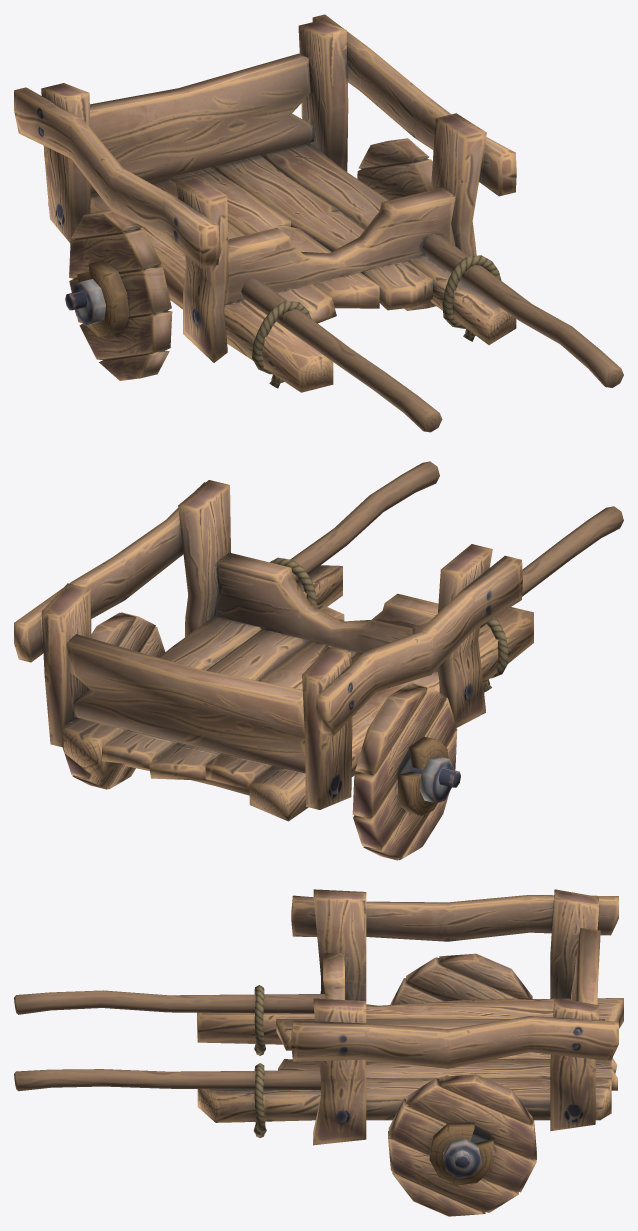
Rendered from Stylized Wagon.fbx.
3 views of the same model, one above another, from view 1: azimuth 30°, elevation 25°; view 2: azimuth 150°, elevation 25°; view 3: azimuth 270°, elevation 25° (orthographic). The views are drawn at different scales.
Parts seen in each view (by area): view 1: Wagon_LowPoly, Wagon_LowPoly.001, Wagon_LowPoly.002; view 2: Wagon_LowPoly, Wagon_LowPoly.001, Wagon_LowPoly.002; view 3: Wagon_LowPoly, Wagon_LowPoly.002, Wagon_LowPoly.001.
Boxes of the visible parts, bbox=[...] form: Wagon_LowPoly: bbox=[14, 14, 623, 432]; Wagon_LowPoly.001: bbox=[69, 209, 172, 380]; Wagon_LowPoly.002: bbox=[357, 138, 436, 310]; Wagon_LowPoly: bbox=[14, 461, 623, 821]; Wagon_LowPoly.001: bbox=[352, 683, 457, 860]; Wagon_LowPoly.002: bbox=[62, 612, 165, 789]; Wagon_LowPoly: bbox=[14, 889, 623, 1169]; Wagon_LowPoly.002: bbox=[388, 1074, 536, 1216]; Wagon_LowPoly.001: bbox=[390, 953, 532, 1004].
Size of the model in its own units: 2949 by 1707 by 4647.
